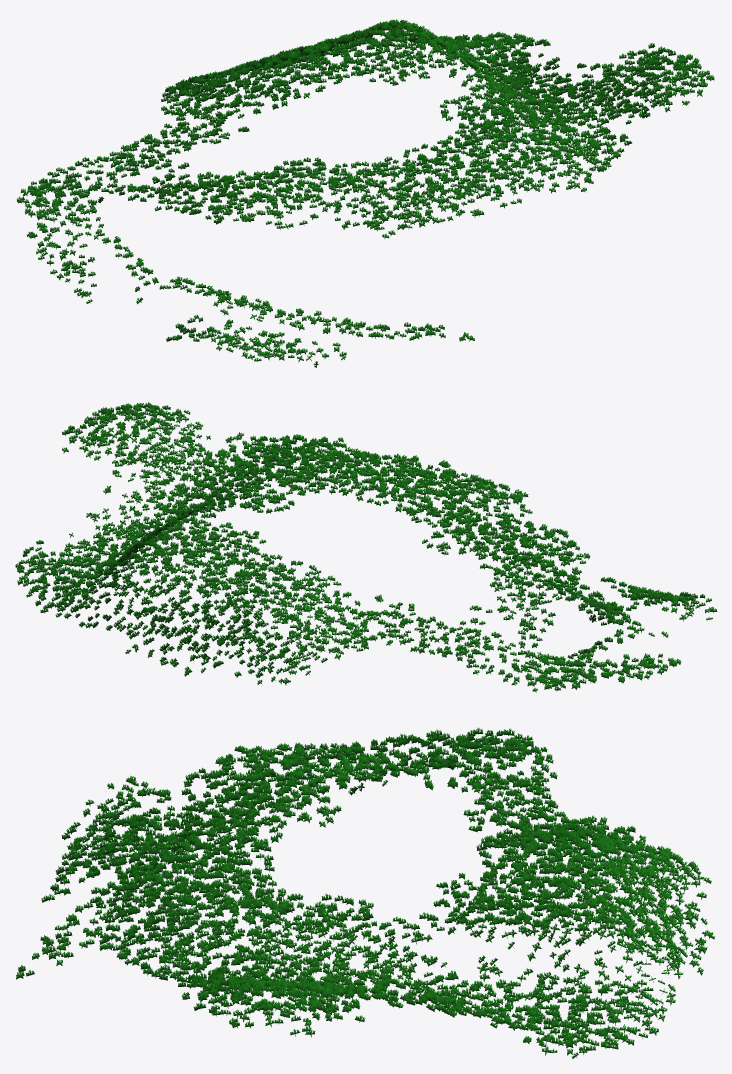
File: SM_Terrain_Grass.fbx
3 views of the same model, one above another, from view 1: azimuth 30°, elevation 25°; view 2: azimuth 150°, elevation 25°; view 3: azimuth 270°, elevation 25° (orthographic). The views are drawn at different scales.
Parts seen in each view (by area): view 1: SM_Terrain_Grass; view 2: SM_Terrain_Grass; view 3: SM_Terrain_Grass.
Part boxes in pixels (bbox=[...]): SM_Terrain_Grass: bbox=[16, 19, 714, 367]; SM_Terrain_Grass: bbox=[15, 402, 717, 692]; SM_Terrain_Grass: bbox=[16, 727, 714, 1058].
Size of the model in its own units: 37.21 by 7.88 by 28.13.
